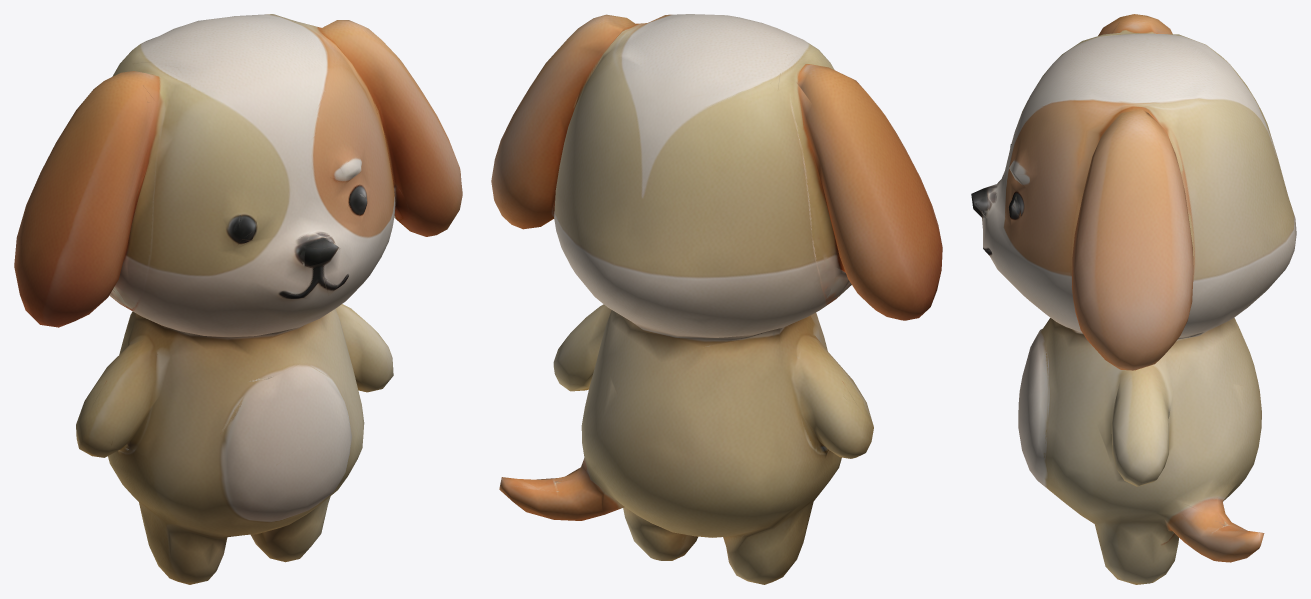
File: dog.glb
3 renders of one model, left to right at view 1: azimuth 30°, elevation 25°; view 2: azimuth 150°, elevation 25°; view 3: azimuth 270°, elevation 25°, orthographic. The views are drawn at different scales.
Visible parts, largest first — view 1: material_0; view 2: material_0; view 3: material_0.
Part boxes in pixels (left/top/right/bottom): material_0: left=14, top=14, right=462, bottom=584; material_0: left=491, top=14, right=942, bottom=584; material_0: left=971, top=14, right=1296, bottom=584.
Size of the model in its own units: 0.8328 by 0.9972 by 0.5796.
1 material, 1 textured.
